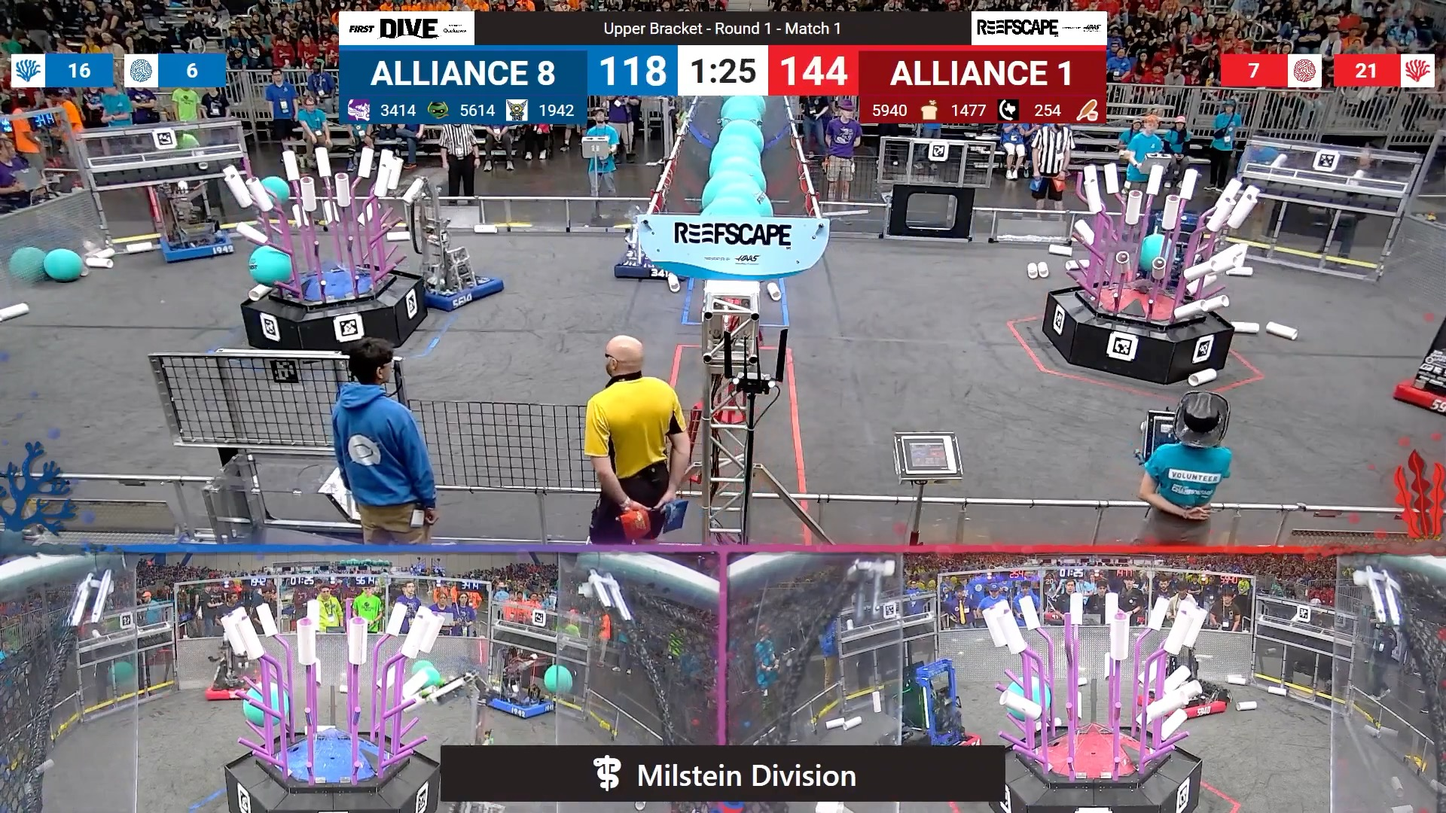bumpers: (398, 264, 510, 312), (150, 225, 240, 266), (1387, 364, 1445, 425), (477, 689, 559, 724), (1167, 691, 1230, 721), (607, 253, 669, 282), (202, 674, 261, 701)
